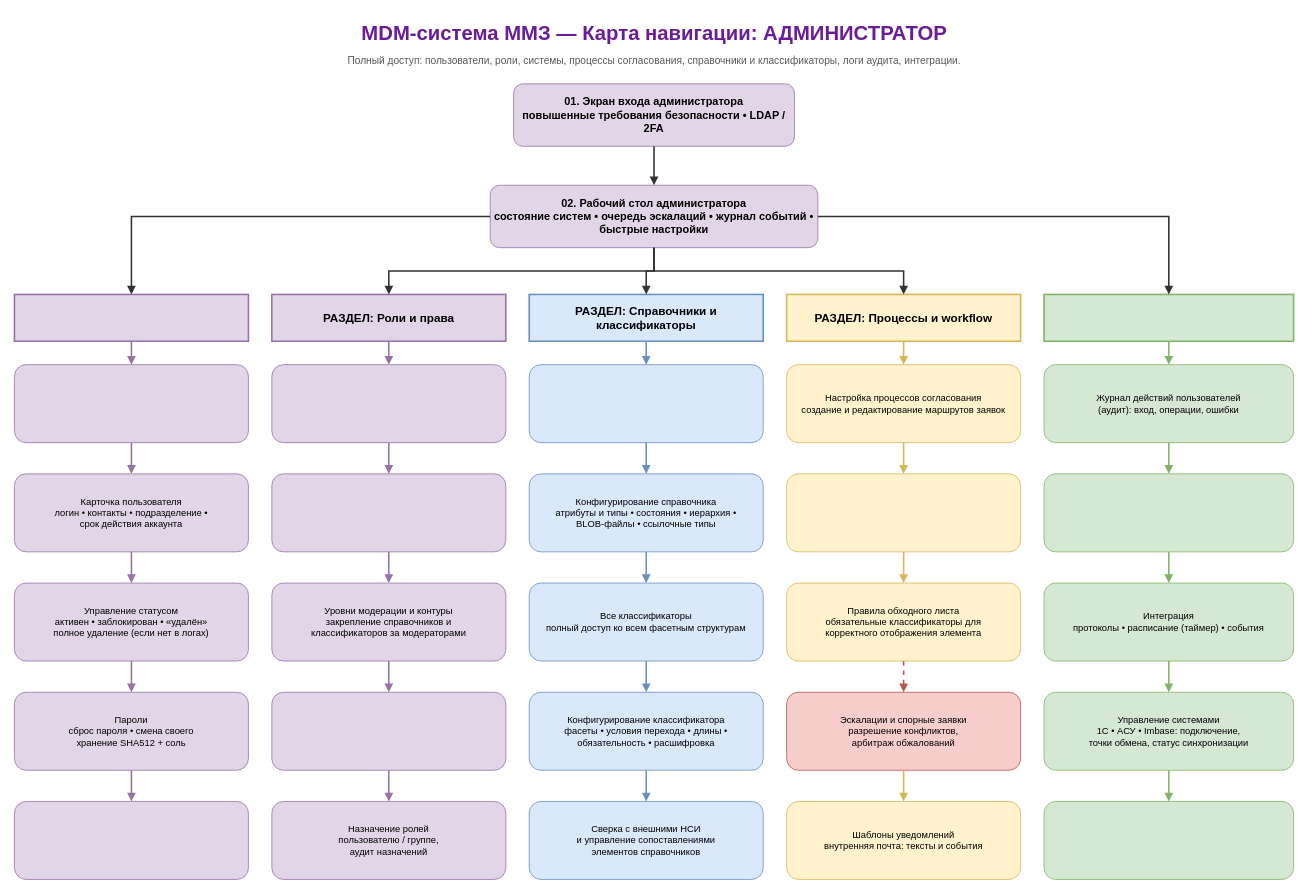
This 1307x893 diagram has some shape labels left out. The shapes that lost their labels are listed below. From the top down, each one's centre as x and y in pixels, then its label:
point 131,317: РАЗДЕЛ: Пользователи
point 1168,317: РАЗДЕЛ: Логи, системы, настройки
point 131,403: Список пользователей поиск, фильтры, статусы
point 388,403: Список ролей Пользователь • Модератор • Администратор (+ расширяемые роли)
point 645,403: Все справочники полный доступ, независимо от системы
point 388,512: Матрица прав операции над НСИ, заявками, администрированием
point 903,512: Маршрут заявки порядок шагов • атрибуты шага • исполнители (модераторы)
point 1168,512: История изменений НСИ версии элементов • откат • экспорт
point 388,730: Тонкие права доступа на уровне строк и столбцов, по группам пользователей
point 131,840: Внешняя авторизация настройка LDAP • сопоставление учётных записей и ролей
point 1168,840: Системные настройки парольная политика • лицензии • резервное копирование
